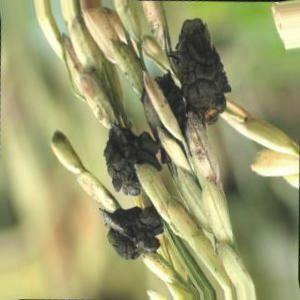Leaf_Scald: (182, 27, 228, 128), (105, 128, 156, 198), (103, 212, 158, 262)
